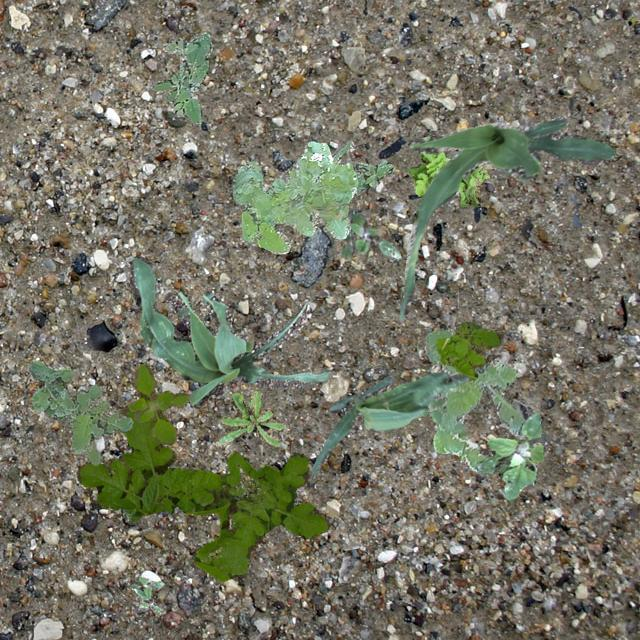crop: (398, 114, 614, 318), (130, 256, 330, 406), (310, 369, 468, 474)
weed: (75, 404, 328, 580), (424, 328, 524, 470), (232, 140, 356, 252), (28, 360, 132, 464), (476, 410, 542, 500), (148, 32, 212, 124), (126, 362, 188, 443), (406, 150, 488, 206), (434, 320, 500, 378), (216, 389, 282, 446), (330, 138, 394, 192), (340, 212, 400, 258), (130, 576, 162, 612)
